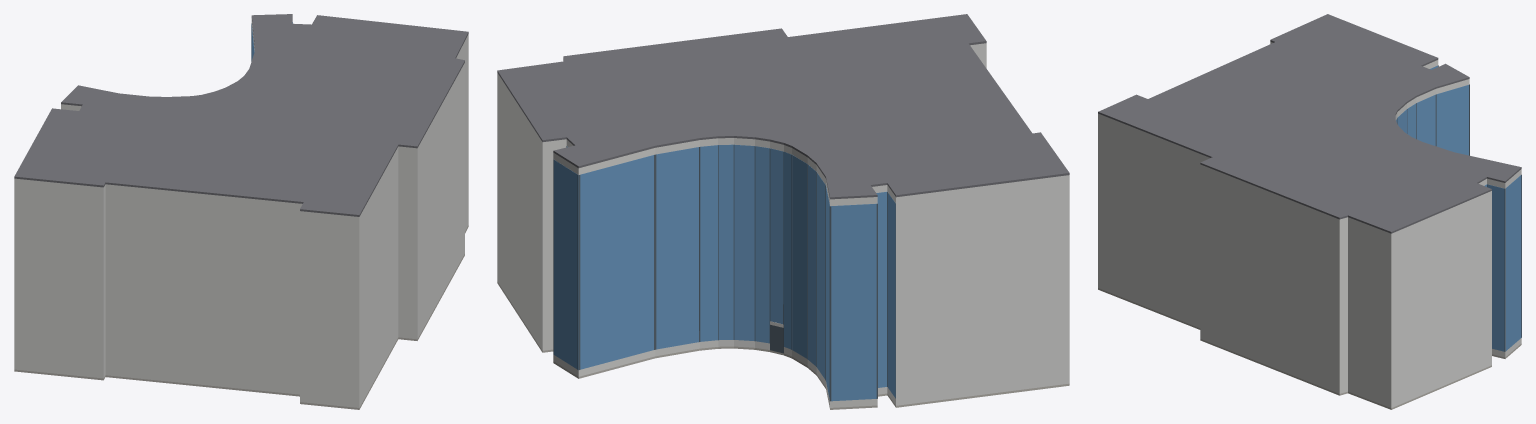
Rendered from justice_center_tier2.glb.
3 renders of one model, left to right at view 1: azimuth 30°, elevation 25°; view 2: azimuth 150°, elevation 25°; view 3: azimuth 270°, elevation 25°, orthographic. The views are drawn at different scales.
Visible parts, largest first — view 1: justice_center_walls, justice_center_roof, justice_center_plinth; view 2: justice_center_roof, justice_center_walls, glass_3, glass_15, glass_4, glass_2, glass_7, glass_5, glass_6, glass_8, glass_11, glass_9 (+8 smaller); view 3: justice_center_walls, justice_center_roof, glass_2, glass_1, glass_14, justice_center_plinth, glass_13.
Boxes of the visible parts, x1,y1,x2,y2 form: justice_center_walls: [14, 18, 468, 407]; justice_center_roof: [14, 14, 468, 216]; justice_center_plinth: [14, 225, 468, 409]; justice_center_roof: [497, 14, 1069, 199]; justice_center_walls: [497, 43, 1069, 407]; glass_3: [580, 155, 653, 369]; glass_15: [830, 203, 876, 401]; glass_4: [656, 147, 698, 349]; glass_2: [554, 160, 578, 369]; glass_7: [734, 144, 754, 340]; glass_5: [700, 145, 717, 341]; glass_6: [718, 144, 733, 339]; glass_8: [755, 146, 769, 343]; glass_11: [792, 155, 806, 358]; glass_9: [770, 148, 783, 324]; justice_center_walls: [1098, 42, 1521, 407]; justice_center_roof: [1098, 14, 1521, 233]; glass_2: [1505, 175, 1521, 350]; glass_1: [1487, 184, 1504, 351]; glass_14: [1436, 85, 1468, 155]; justice_center_plinth: [1098, 288, 1521, 409]; glass_13: [1417, 94, 1435, 145].
Size of the model in its own units: 82.84 by 31.53 by 68.03.
